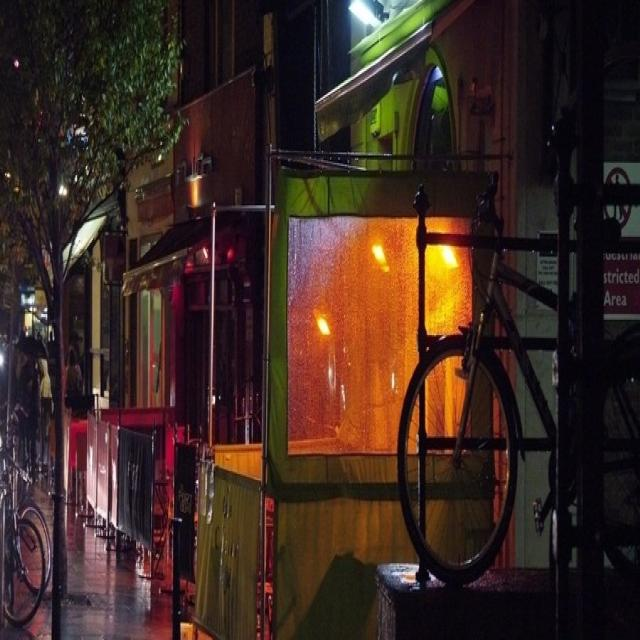Bicycle: (388, 172, 640, 620), (0, 435, 60, 631)
